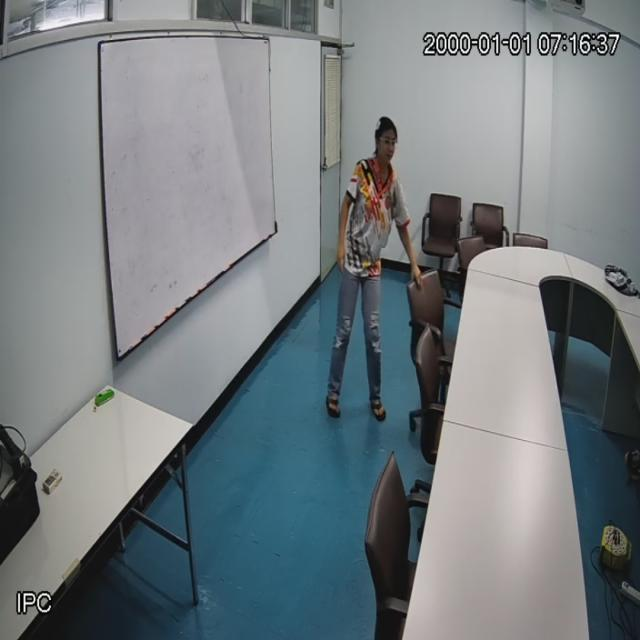normal: (324, 108, 401, 426)
